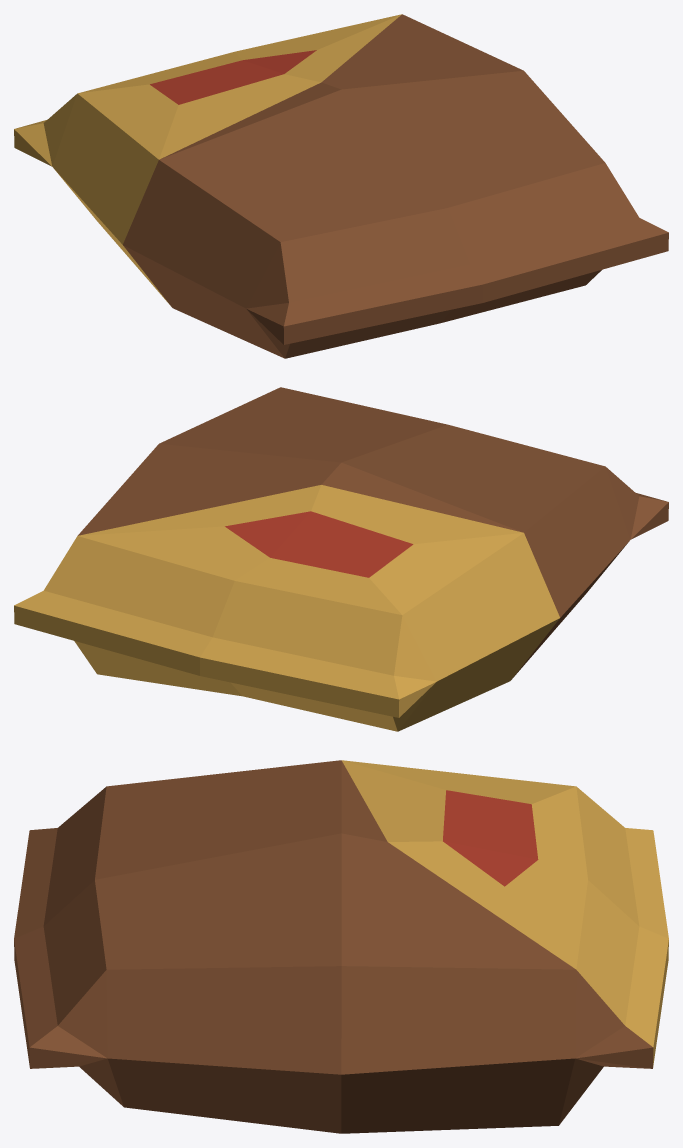
File: SM_Prop_Snack_01.glb
3 views of the same model, one above another, from view 1: azimuth 30°, elevation 25°; view 2: azimuth 150°, elevation 25°; view 3: azimuth 270°, elevation 25° (orthographic). The views are drawn at different scales.
Parts seen in each view (by area): view 1: SM_Prop_Snack_01; view 2: SM_Prop_Snack_01; view 3: SM_Prop_Snack_01.
Boxes of the visible parts, x1,y1,x2,y2 form: SM_Prop_Snack_01: (14, 14, 668, 358); SM_Prop_Snack_01: (14, 387, 668, 731); SM_Prop_Snack_01: (14, 760, 668, 1133).
Size of the model in its own units: 0.3061 by 0.1364 by 0.3433.
1 material, 1 textured.
